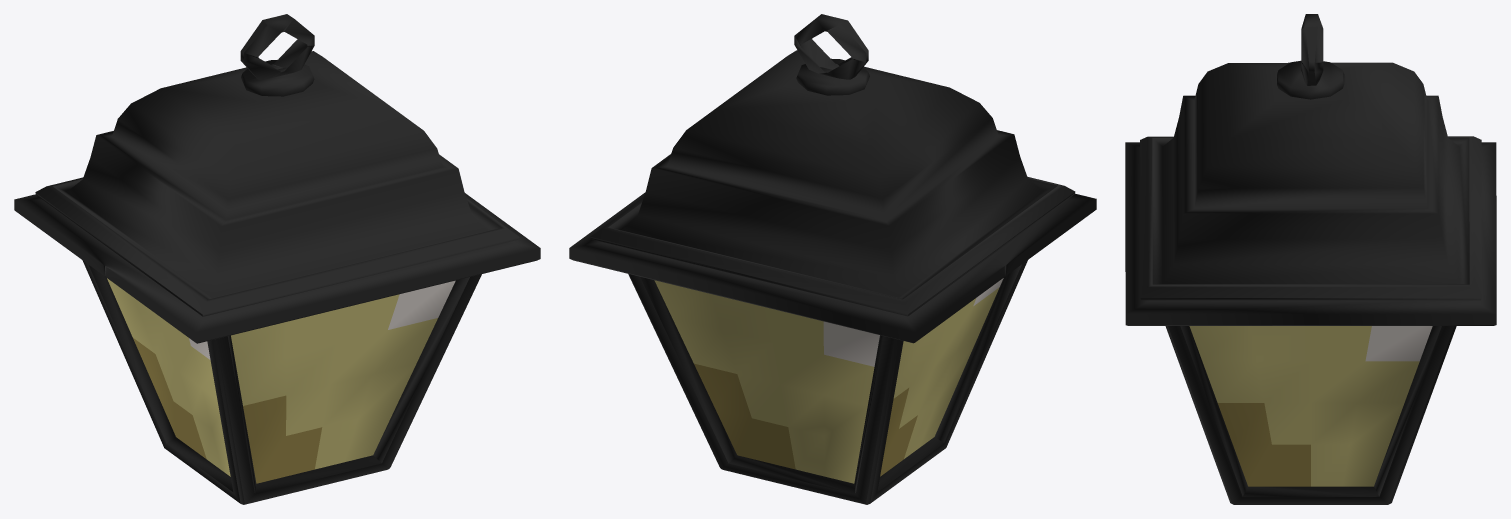
File: Lampara.obj
The picture shows the model from 3 angles, left to right: view 1: azimuth 30°, elevation 25°; view 2: azimuth 150°, elevation 25°; view 3: azimuth 270°, elevation 25°; orthographic projection. The views are drawn at different scales.
Visible parts, largest first — view 1: Box02_Box02.001; view 2: Box02_Box02.001; view 3: Box02_Box02.001.
Part boxes in pixels (x1=…): Box02_Box02.001: x1=14, y1=14, x2=540, y2=504; Box02_Box02.001: x1=569, y1=14, x2=1096, y2=504; Box02_Box02.001: x1=1125, y1=14, x2=1496, y2=504.
Bounding box in the file's own units: 0.1367 × 0.1666 × 0.1248.
Materials: 1 (1 with a texture image).
